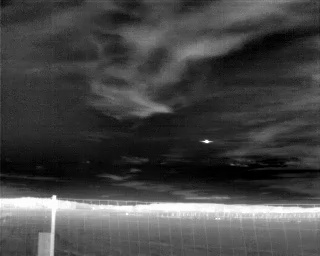AIRPLANE: (199, 137, 215, 146)
